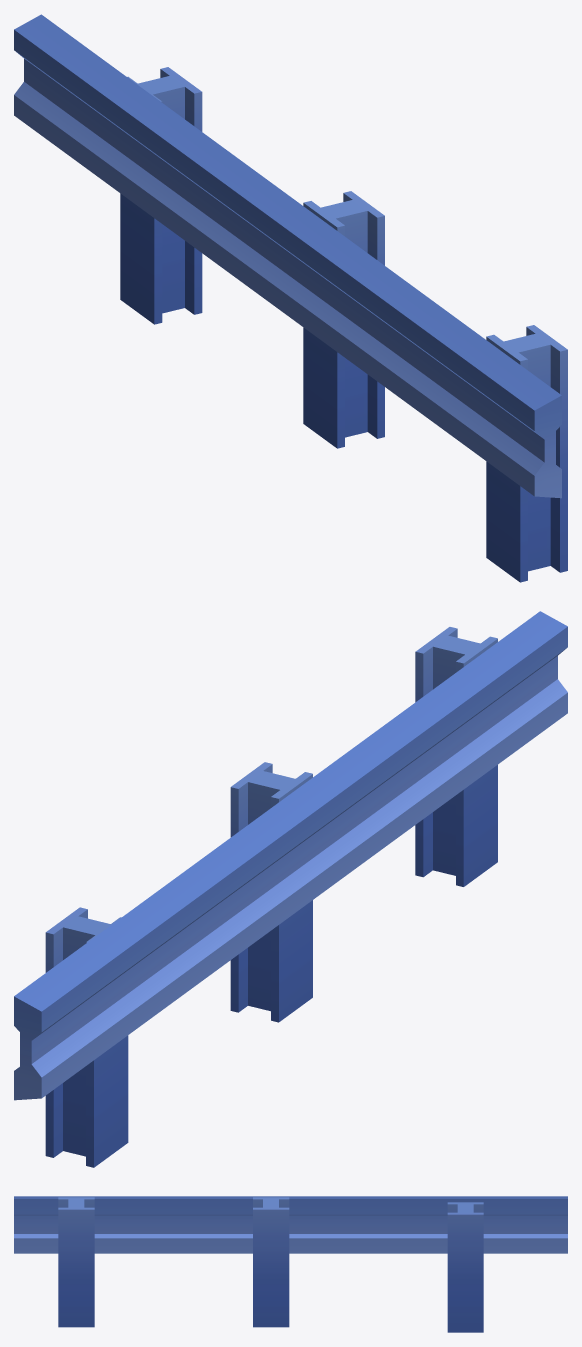
File: RoadBarier_2_A_2.fbx
The picture shows the model from 3 angles, top to bottom: view 1: azimuth 30°, elevation 25°; view 2: azimuth 150°, elevation 25°; view 3: azimuth 270°, elevation 25°; orthographic projection. The views are drawn at different scales.
Parts seen in each view (by area): view 1: RoadBarier_2_A_2; view 2: RoadBarier_2_A_2; view 3: RoadBarier_2_A_2.
Part boxes in pixels (x1=…): RoadBarier_2_A_2: x1=14, y1=14, x2=567, y2=582; RoadBarier_2_A_2: x1=14, y1=611, x2=567, y2=1167; RoadBarier_2_A_2: x1=14, y1=1196, x2=567, y2=1332.
Bounding box in the file's own units: 25.02 × 73.47 × 300.
